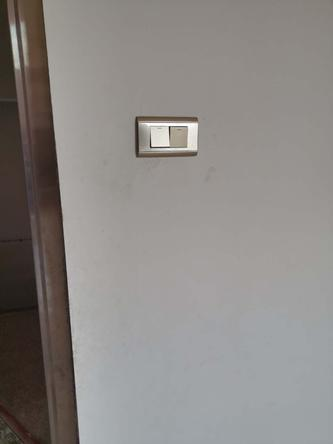switch: (149, 123, 171, 149), (169, 122, 190, 148)
